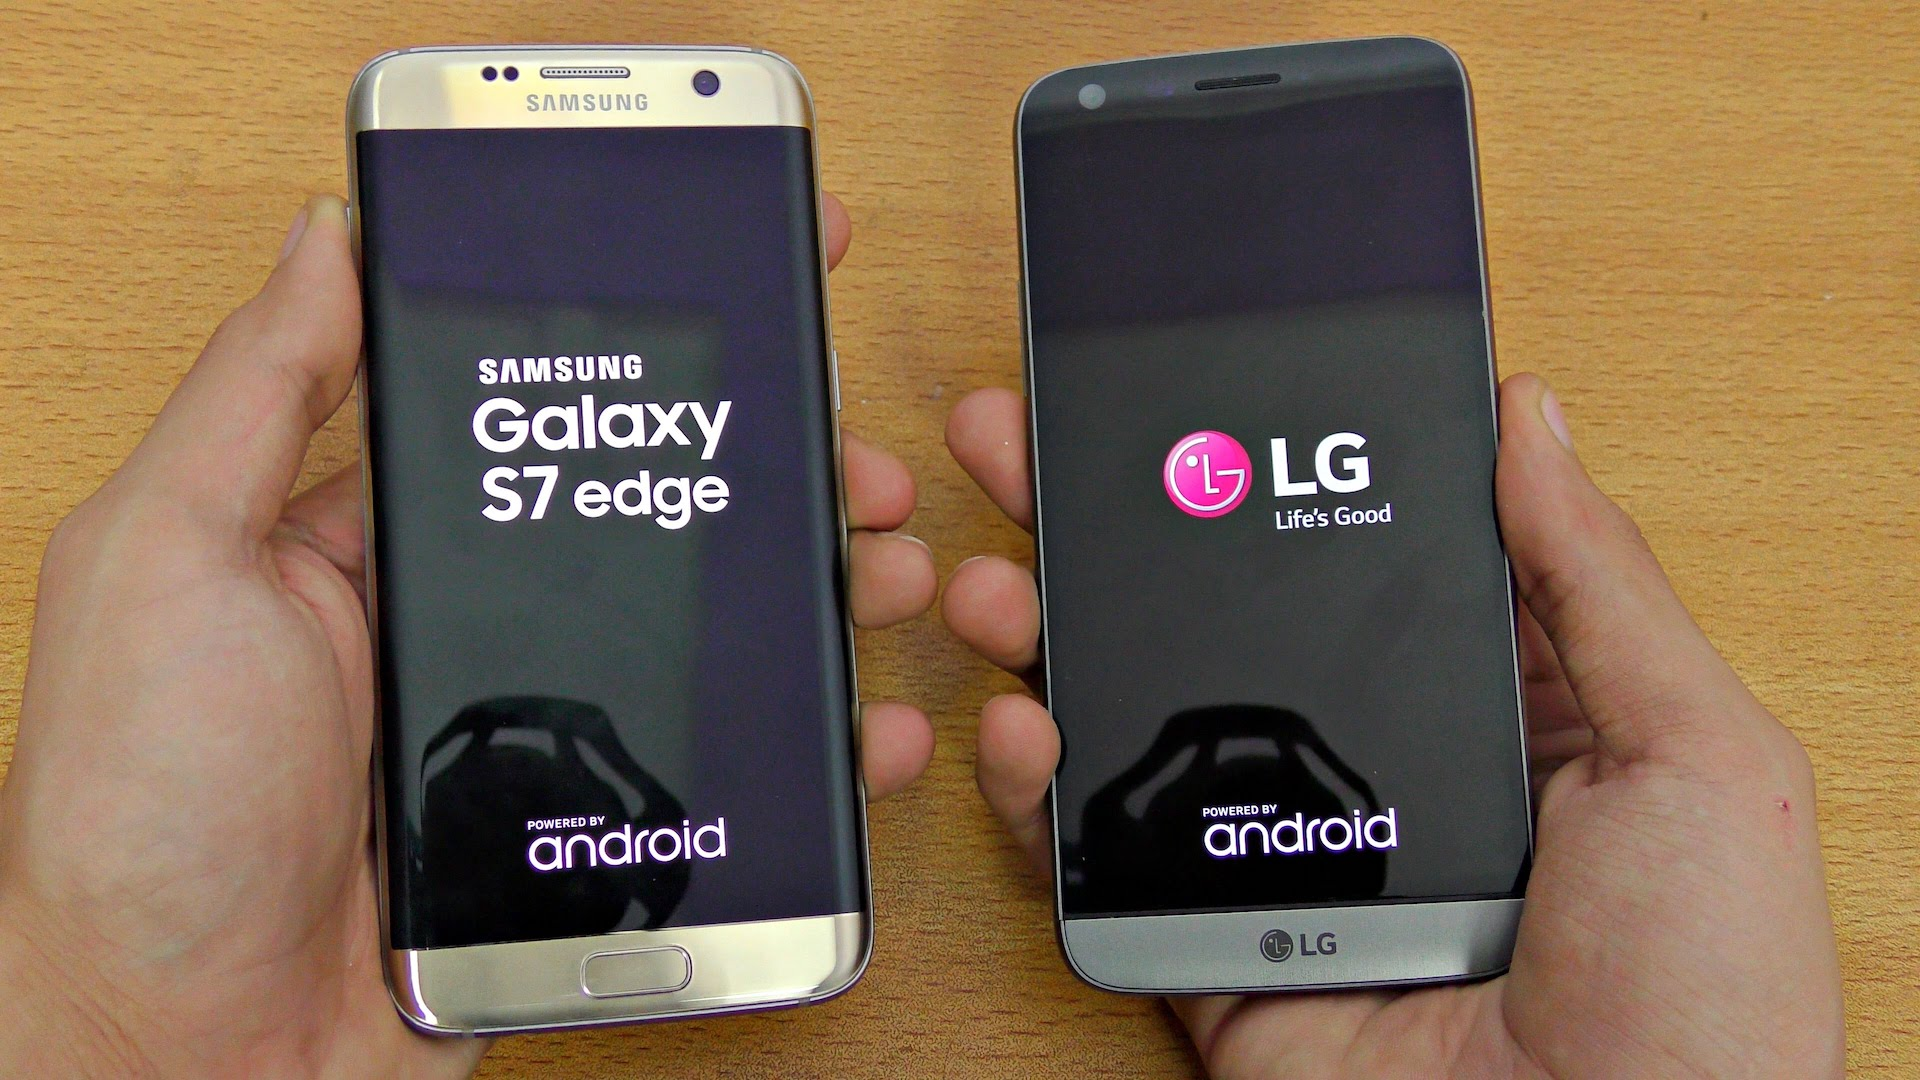smartphone: (342, 40, 880, 1044), (1010, 34, 1539, 1000)
